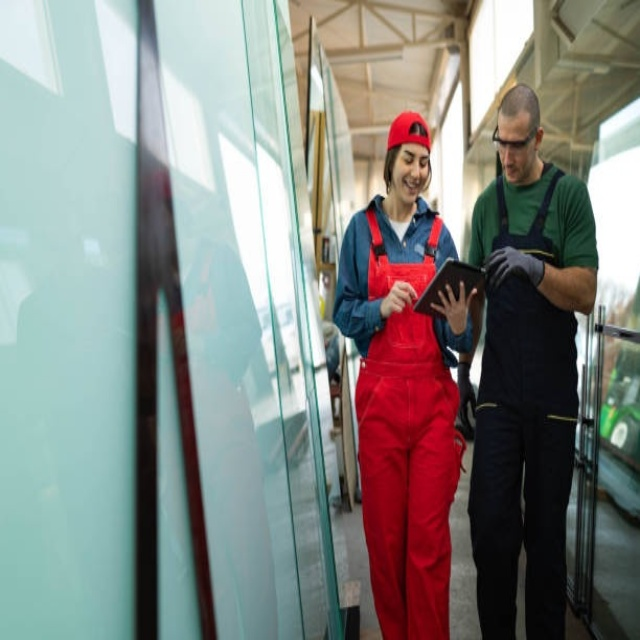Gafas: (492, 123, 538, 150)
Guantes: (485, 246, 544, 291), (455, 365, 477, 438)
Sin_gafas: (399, 147, 430, 169)
Sin_guantes: (430, 277, 475, 328), (381, 279, 419, 319)
Sin_mascara: (401, 174, 419, 198), (500, 162, 519, 184)
